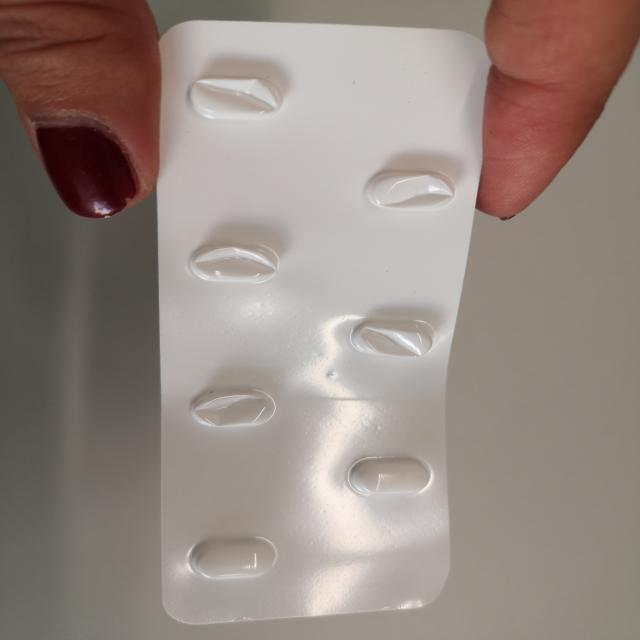Empty: (172, 64, 293, 134), (179, 240, 303, 295), (351, 163, 466, 216), (181, 379, 284, 437), (327, 312, 441, 362)
Pill: (172, 529, 286, 584), (336, 450, 448, 503)
